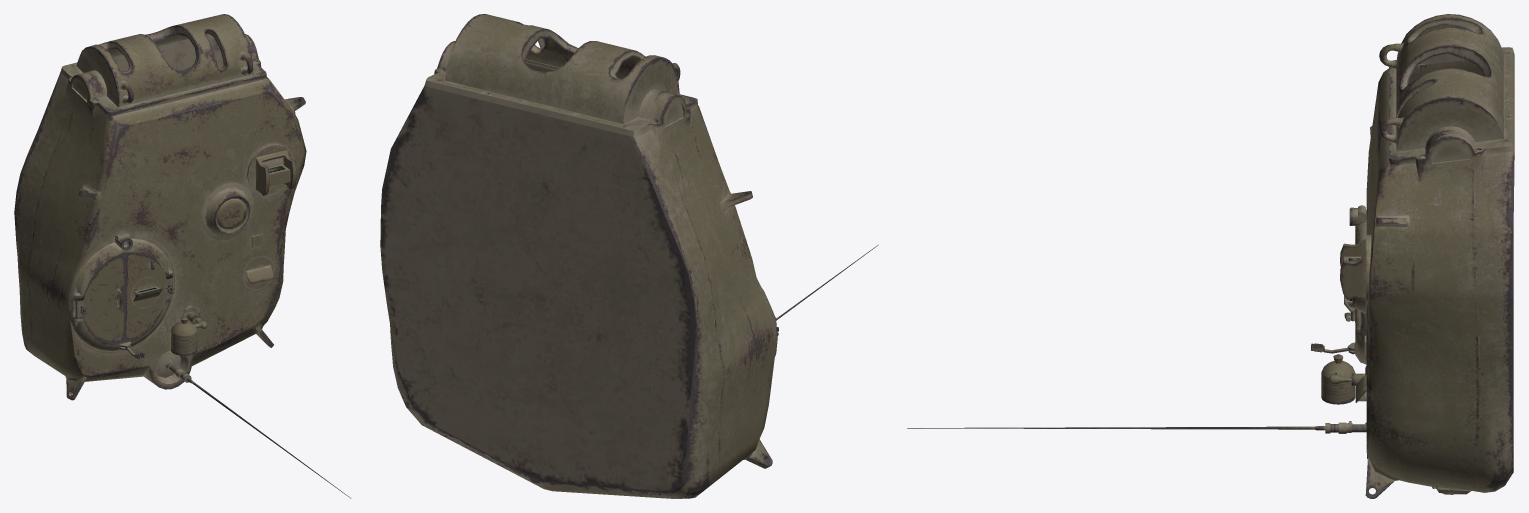
File: Turret_02.glb
3 views of the same model, side by side, from view 1: azimuth 30°, elevation 25°; view 2: azimuth 150°, elevation 25°; view 3: azimuth 270°, elevation 25° (orthographic). The views are drawn at different scales.
Parts seen in each view (by area): view 1: set_0_group_0; view 2: set_0_group_0; view 3: set_0_group_0.
Boxes of the visible parts, bbox=[...] form: set_0_group_0: bbox=[14, 14, 351, 498]; set_0_group_0: bbox=[380, 14, 878, 498]; set_0_group_0: bbox=[907, 14, 1514, 498].
Bounding box in the file's own units: 2.03 × 2.6 × 3.43.
1 material, 1 textured.
